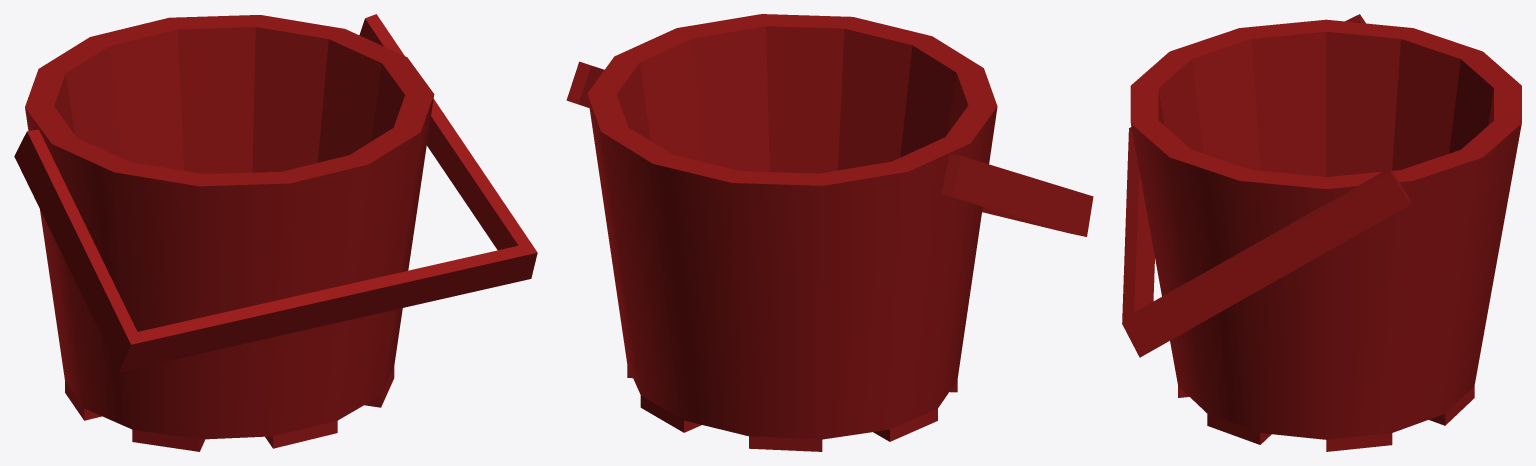
Rendered from MOD_seaueau.FBX.
3 renders of one model, left to right at view 1: azimuth 30°, elevation 25°; view 2: azimuth 150°, elevation 25°; view 3: azimuth 270°, elevation 25°, orthographic. The views are drawn at different scales.
Parts seen in each view (by area): view 1: Cylinder001; view 2: Cylinder001; view 3: Cylinder001.
Boxes of the visible parts, box(x1,y1,x2,y2) form: Cylinder001: box(14, 14, 537, 451); Cylinder001: box(566, 14, 1093, 451); Cylinder001: box(1122, 14, 1521, 451).
Bounding box in the file's own units: 0.4133 × 0.2934 × 0.3587.
